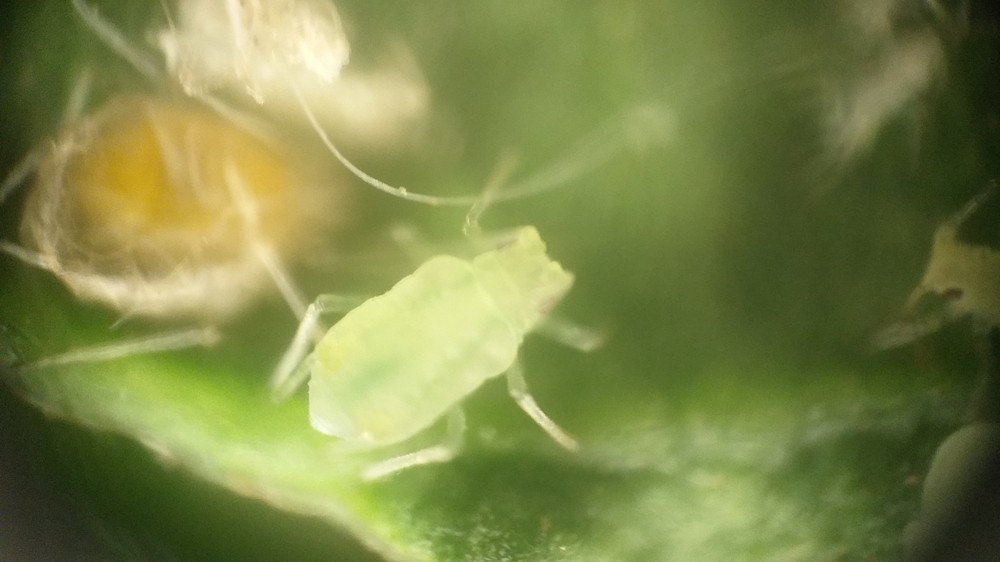Pulgon: (263, 161, 651, 509), (7, 33, 387, 388)
